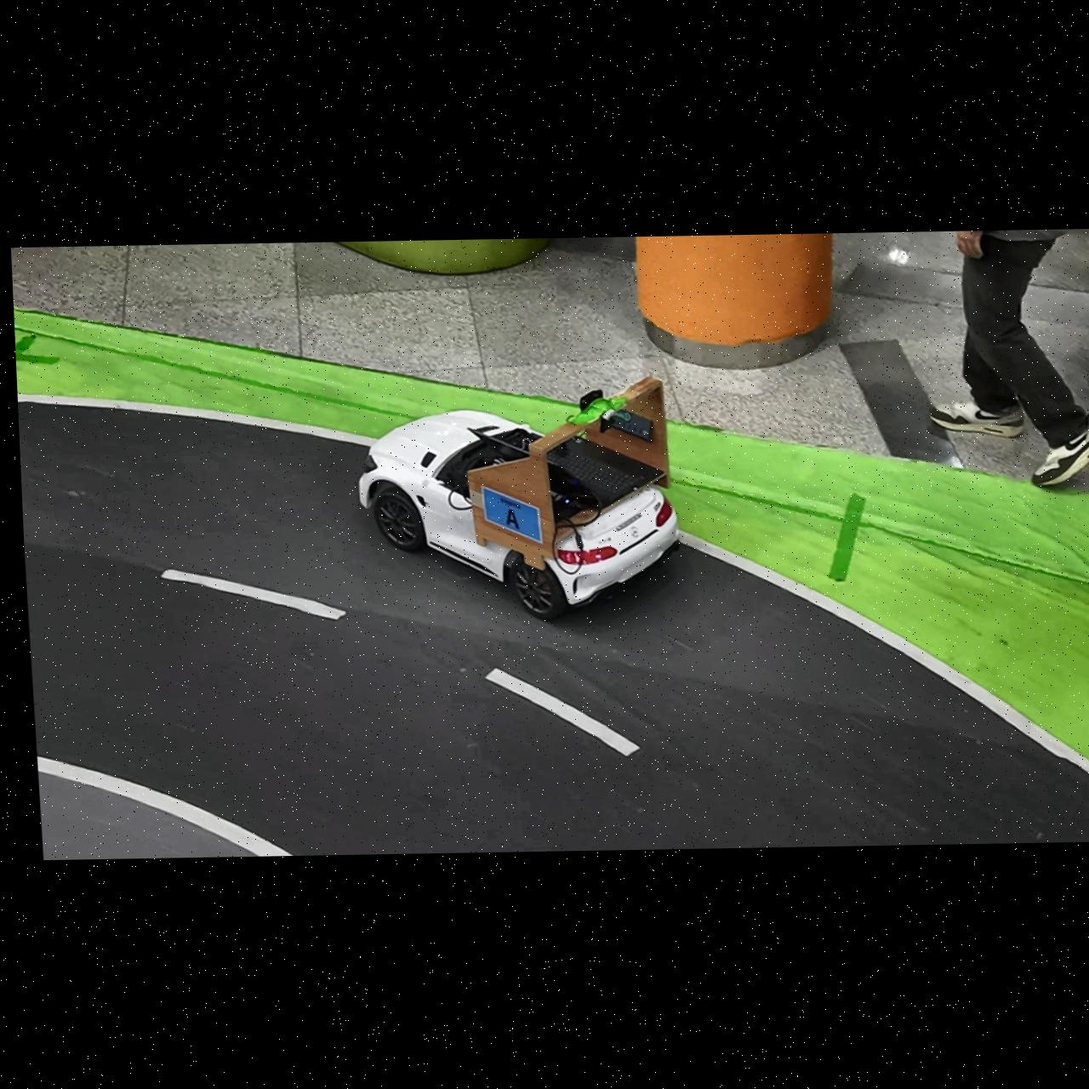broken_line: (485, 668, 640, 756), (161, 569, 347, 620)
